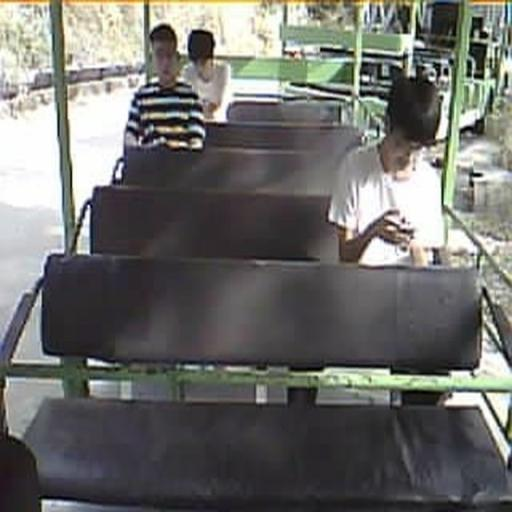persona: (326, 72, 448, 268), (122, 22, 207, 157), (180, 28, 230, 122)
